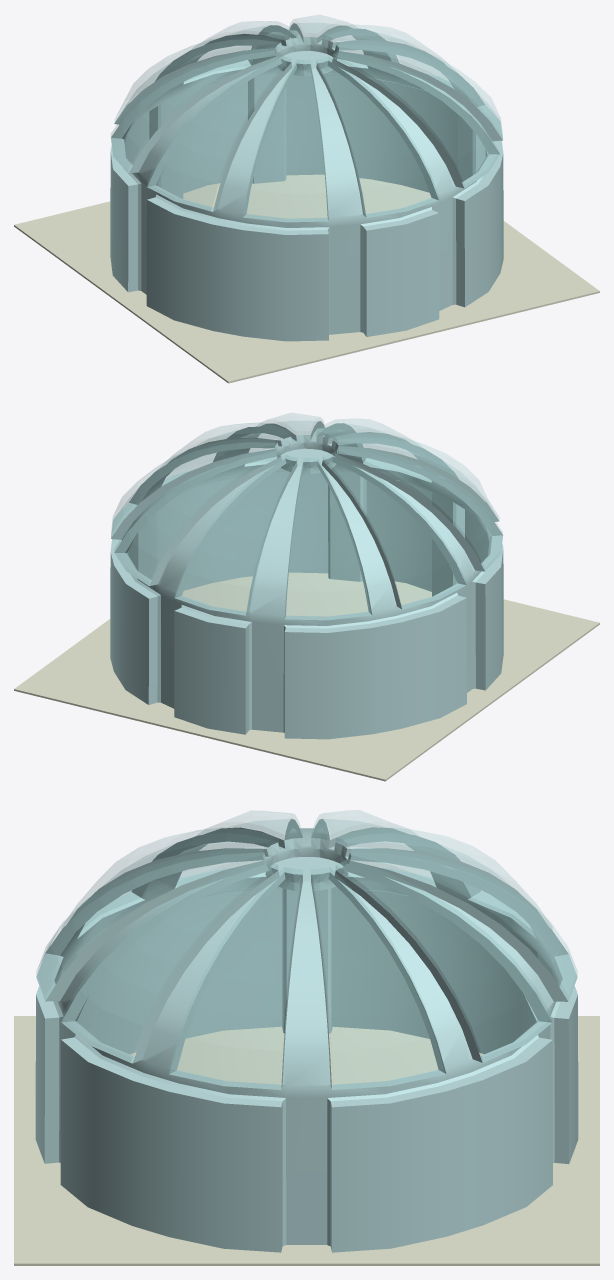
File: MainRoom.fbx
3 renders of one model, top to bottom at view 1: azimuth 30°, elevation 25°; view 2: azimuth 150°, elevation 25°; view 3: azimuth 270°, elevation 25°, orthographic. The views are drawn at different scales.
Parts seen in each view (by area): view 1: polySurface12, polySurface24, pCube1; view 2: polySurface12, polySurface24, pCube1; view 3: polySurface12, polySurface24, pCube1.
Part boxes in pixels (x1,y1,x2,y2): polySurface12: [110, 23, 503, 341]; polySurface24: [111, 15, 502, 221]; pCube1: [14, 174, 599, 383]; polySurface12: [110, 421, 503, 739]; polySurface24: [111, 413, 502, 619]; pCube1: [14, 572, 599, 781]; polySurface12: [35, 818, 578, 1252]; polySurface24: [36, 810, 577, 1089]; pCube1: [14, 1016, 599, 1265].
Bounding box in the file's own units: 113 × 62.22 × 113.
